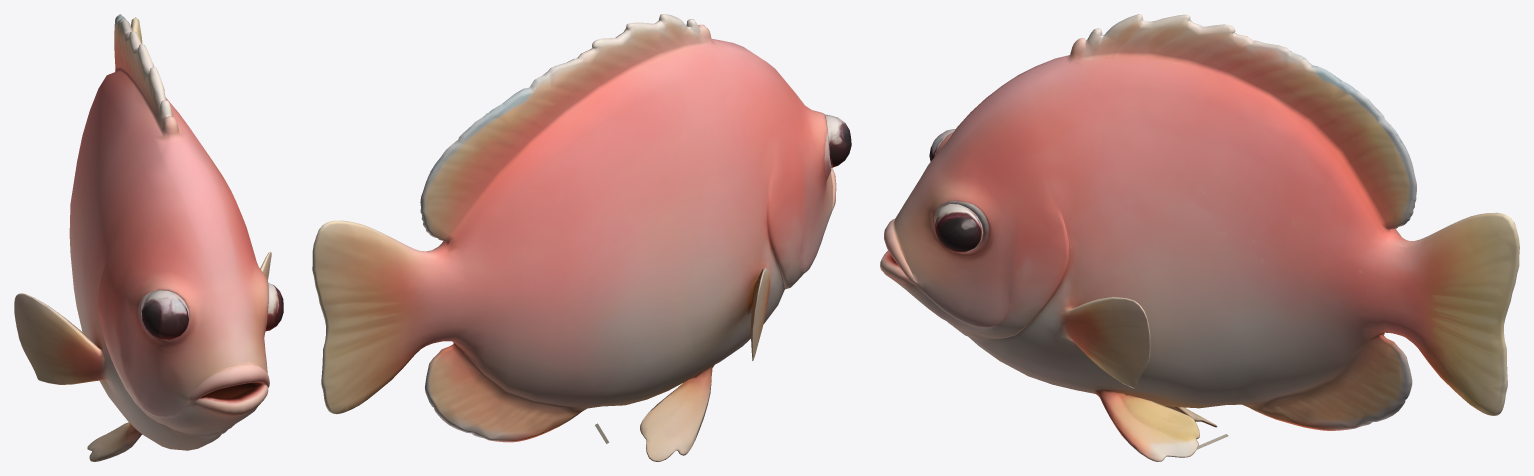
Rendered from mochi_fish.fbx.
3 renders of one model, left to right at view 1: azimuth 30°, elevation 25°; view 2: azimuth 150°, elevation 25°; view 3: azimuth 270°, elevation 25°, orthographic. The views are drawn at different scales.
Visible parts, largest first — view 1: tripo_node_a94321b5; view 2: tripo_node_a94321b5; view 3: tripo_node_a94321b5.
Part boxes in pixels (box(x1,y1,x2,y2)): tripo_node_a94321b5: box(14, 14, 283, 461); tripo_node_a94321b5: box(312, 14, 851, 461); tripo_node_a94321b5: box(880, 14, 1519, 461).
Bounding box in the file's own units: 0.5366 × 0.7466 × 0.9995.
1 material, 1 textured.
